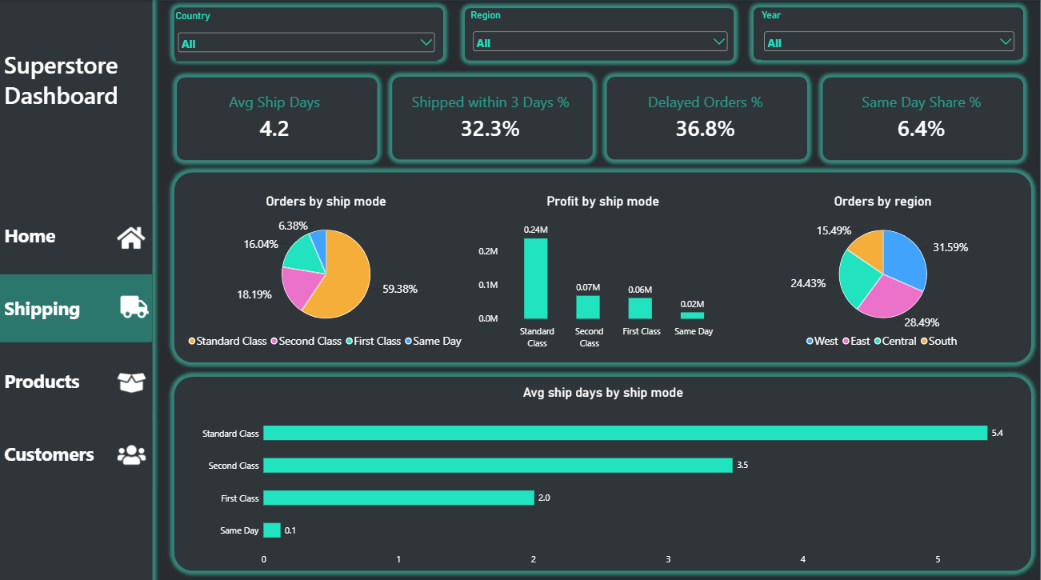

Layout of this report page (visuals, bound fields, positions):
{"tool":"powerbi","page":{"name":"Shipping","canvas":[1920,1080],"ordinal":1},"visuals":[{"type":"textbox","box":[0,88.3,327.6,127],"z":0},{"type":"pageNavigator","box":[0,369.9,285.3,528.2],"z":1000},{"type":"pieChart","title":"Orders by ship mode","fields":{"Category":["FactSales.ShipMode"],"Y":["Main Kpi.Orders"]},"box":[327.6,342.3,554,318.4],"z":2000},{"type":"clusteredBarChart","title":"Avg ship days by ship mode","fields":{"Category":["FactSales.ShipMode"],"Y":["Main Kpi.Avg Ship Days"]},"box":[354,694,1522,368],"z":3000},{"type":"pieChart","title":"Orders by region","fields":{"Category":["DimLocation.Region"],"Y":["Main Kpi.Orders"]},"box":[1384,342,491,318],"z":4000},{"type":"clusteredColumnChart","title":"Profit by ship mode","fields":{"Category":["FactSales.ShipMode"],"Y":["Main Kpi.Total Profit"]},"box":[869,342,491,318],"z":5000},{"type":"cardVisual","fields":{"Data":["Main Kpi.Avg Ship Days"]},"box":[328,154,364,122],"z":6000},{"type":"cardVisual","fields":{"Data":["Main Kpi.% Shipped within 3 Days"]},"box":[724.7,154,364,122],"z":7000},{"type":"cardVisual","fields":{"Data":["Main Kpi.Delayed Orders %"]},"box":[1121.3,154,364,122],"z":8000},{"type":"cardVisual","fields":{"Data":["Main Kpi.Same Day Share %"]},"box":[1518,154,364,122],"z":9000},{"type":"image","box":[206.1,412.3,79.1,51.5],"z":10000},{"type":"image","box":[206.1,539.3,92,51.5],"z":11000},{"type":"image","box":[200.6,679.1,92,51.5],"z":12000},{"type":"image","box":[200.6,811.7,92,51.5],"z":13000},{"type":"slicer","title":"Year","fields":{"Values":["DimDate.Year"]},"box":[1406,16,470,94],"z":14000},{"type":"slicer","title":"Region","fields":{"Values":["DimLocation.Region"]},"box":[870,16,478,94],"z":15000},{"type":"slicer","title":"Country","fields":{"Values":["DimLocation.Country"]},"box":[327,18,482,94],"z":16000}]}

Visuals, with their boxes on the page's 1920x1080 design canvas (x1, y1, x2, y2). These are canvas units, not pixel positions in the 1041x580 screenshot, which may show the page scaled, cropped or inside an application window:
textbox: BBox(0, 88, 328, 215)
pageNavigator: BBox(0, 370, 285, 898)
"Orders by ship mode" pieChart: BBox(328, 342, 882, 661)
"Avg ship days by ship mode" clusteredBarChart: BBox(354, 694, 1876, 1062)
"Orders by region" pieChart: BBox(1384, 342, 1875, 660)
"Profit by ship mode" clusteredColumnChart: BBox(869, 342, 1360, 660)
cardVisual - Main Kpi.Avg Ship Days: BBox(328, 154, 692, 276)
cardVisual - Main Kpi.% Shipped within 3 Days: BBox(725, 154, 1089, 276)
cardVisual - Main Kpi.Delayed Orders %: BBox(1121, 154, 1485, 276)
cardVisual - Main Kpi.Same Day Share %: BBox(1518, 154, 1882, 276)
image: BBox(206, 412, 285, 464)
image: BBox(206, 539, 298, 591)
image: BBox(201, 679, 293, 731)
image: BBox(201, 812, 293, 863)
"Year" slicer: BBox(1406, 16, 1876, 110)
"Region" slicer: BBox(870, 16, 1348, 110)
"Country" slicer: BBox(327, 18, 809, 112)
